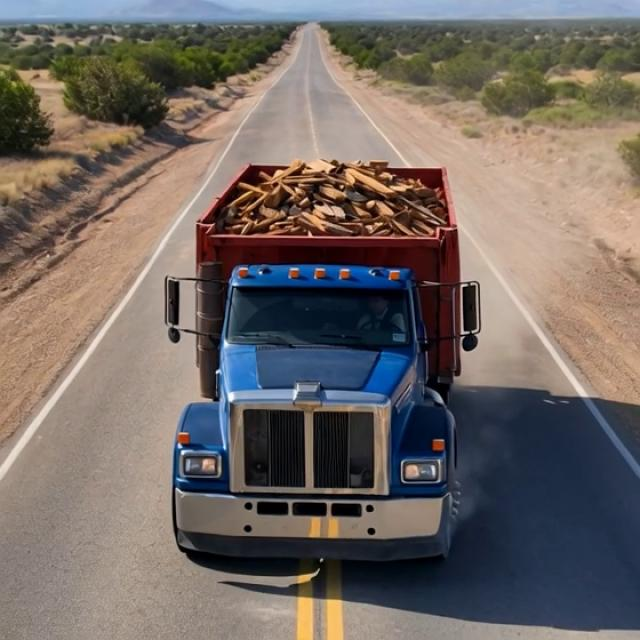trailer: (171, 159, 479, 236)
truck: (156, 133, 498, 567)
